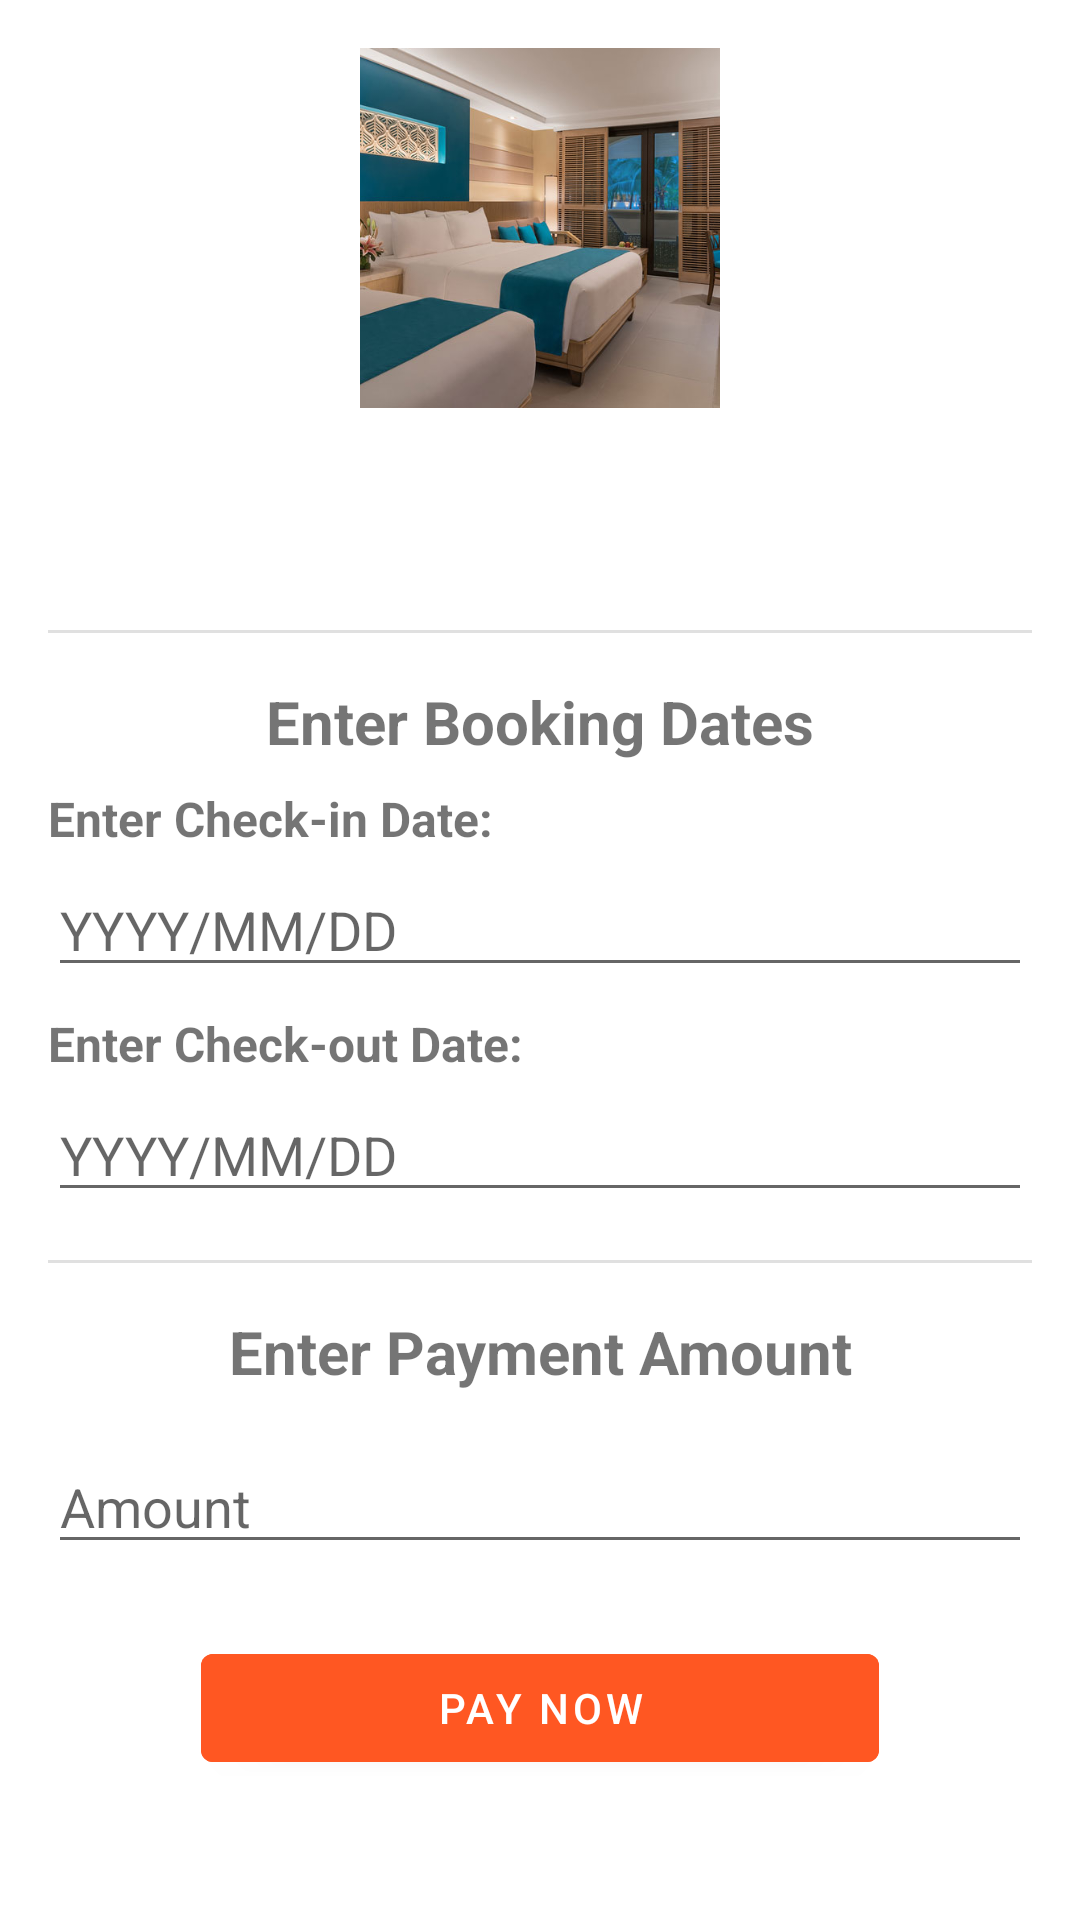

Where to tap for icons on this 1080 x 1920 app screen, as (x,y):
Hotel Image: (540,228)
